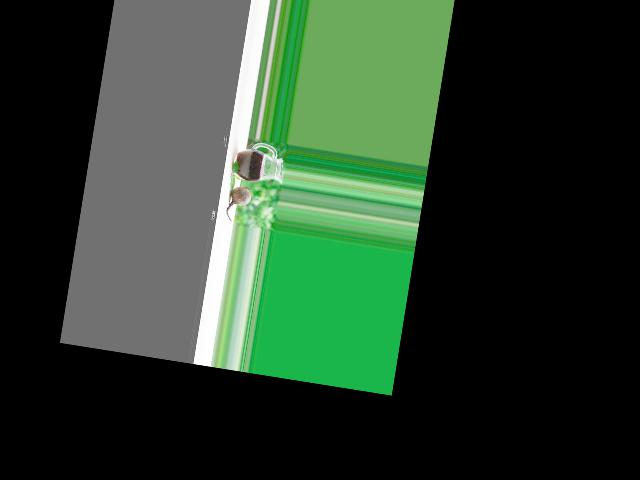beet: (224, 184, 252, 223)
